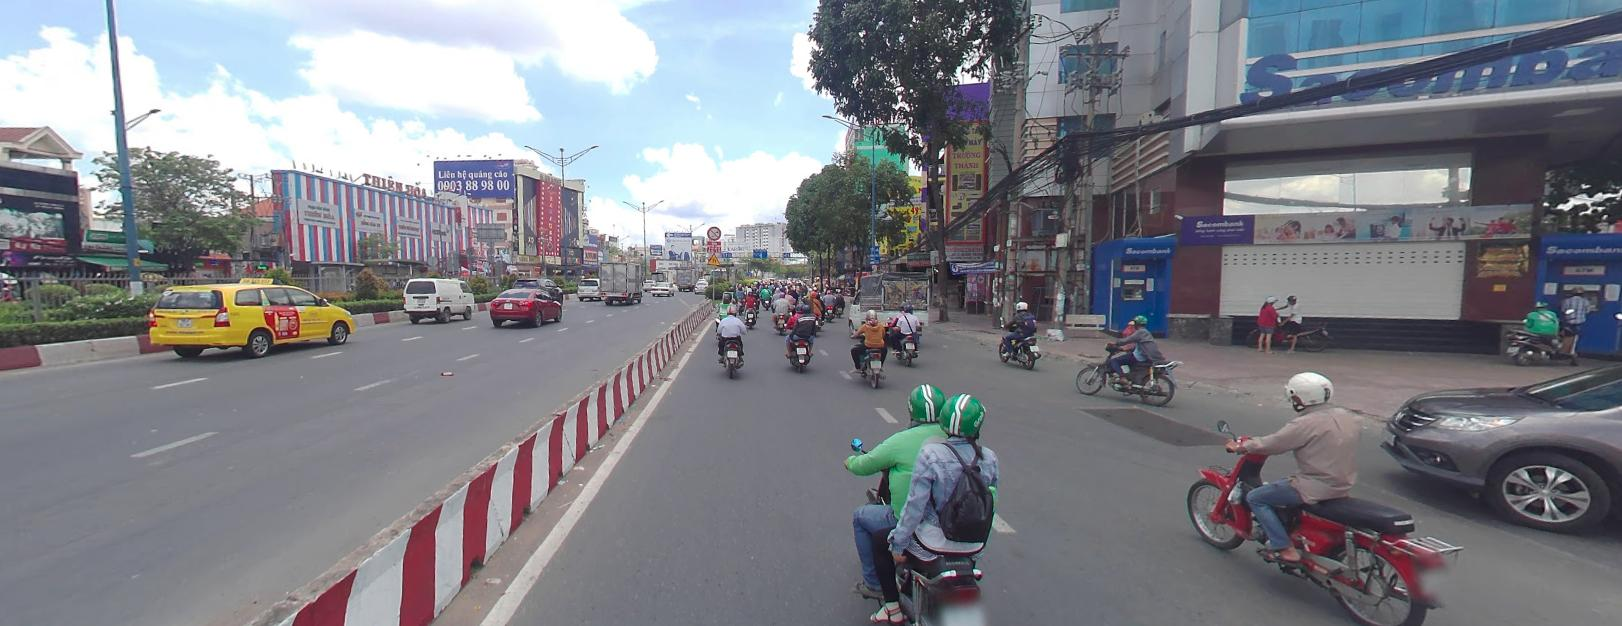Cam con lai: (707, 225, 721, 239)
Nguy hiem: (705, 251, 720, 263)
